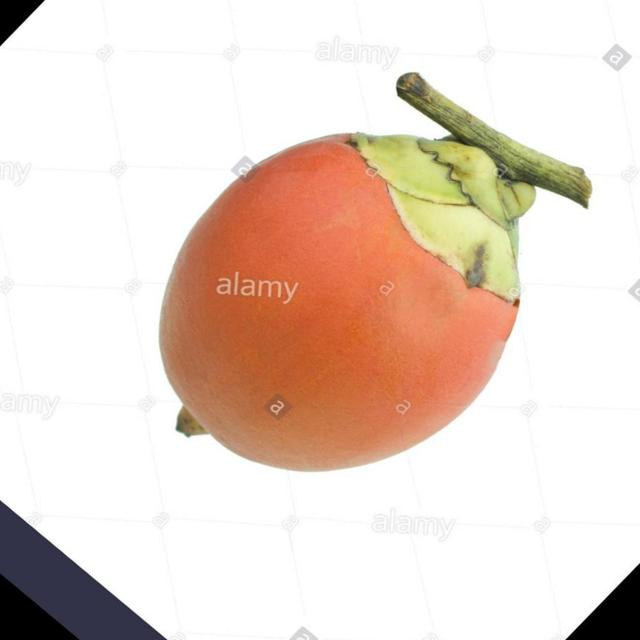good: (158, 134, 535, 474)
